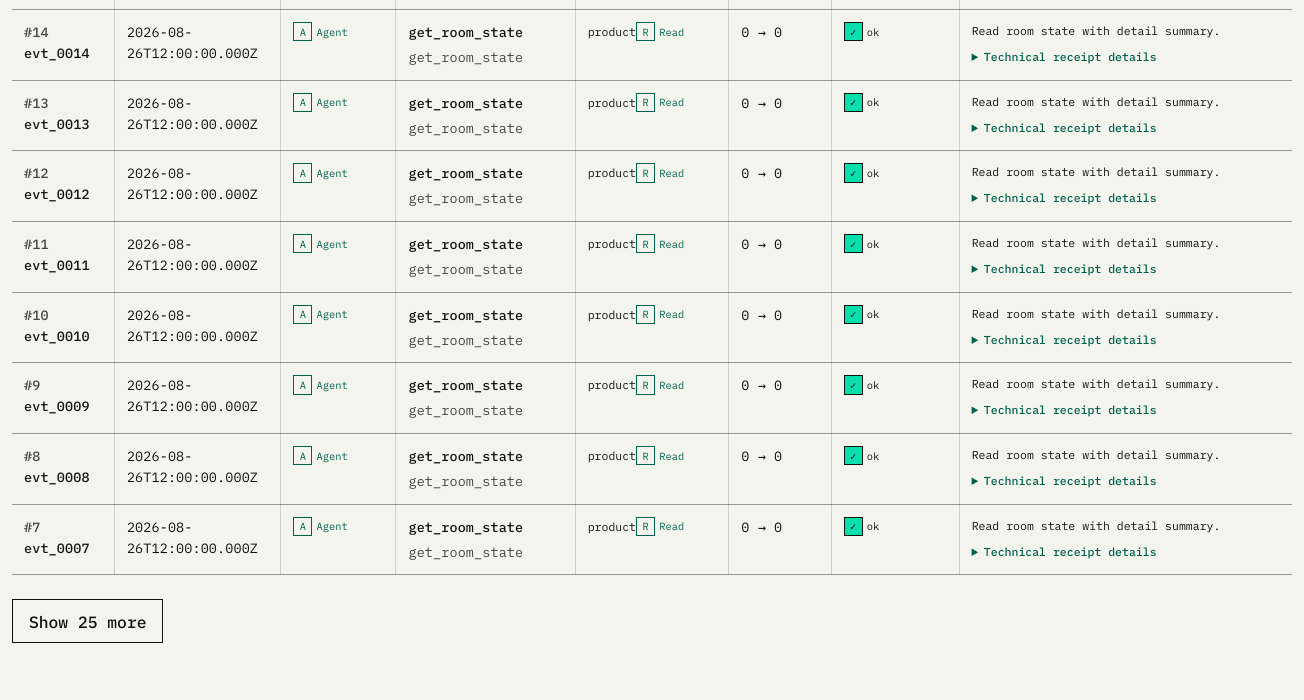
Test: activity ledger workspace › renders twenty-five rows, reveals the next page, and keeps accessible mobile labels
(page scrolled)
Click the button "Show 25 more" at x=88, y=621, box x1=12 y1=599 x2=164 y2=643
(page scrolled)
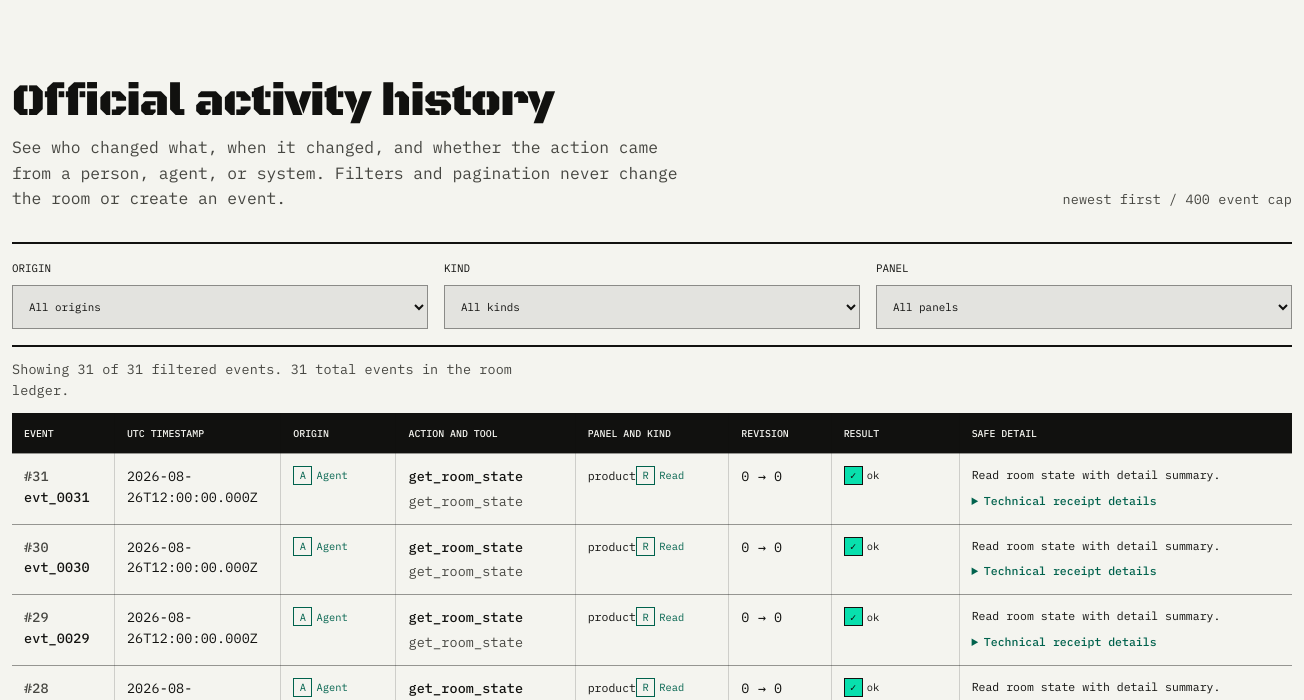
Check: the number of rows is 32
Check: the text "Showing 31 of 31 filtered events" is shown, box x1=12 y1=360 x2=512 y2=399
Check: the button "Show 25 more" is gone
